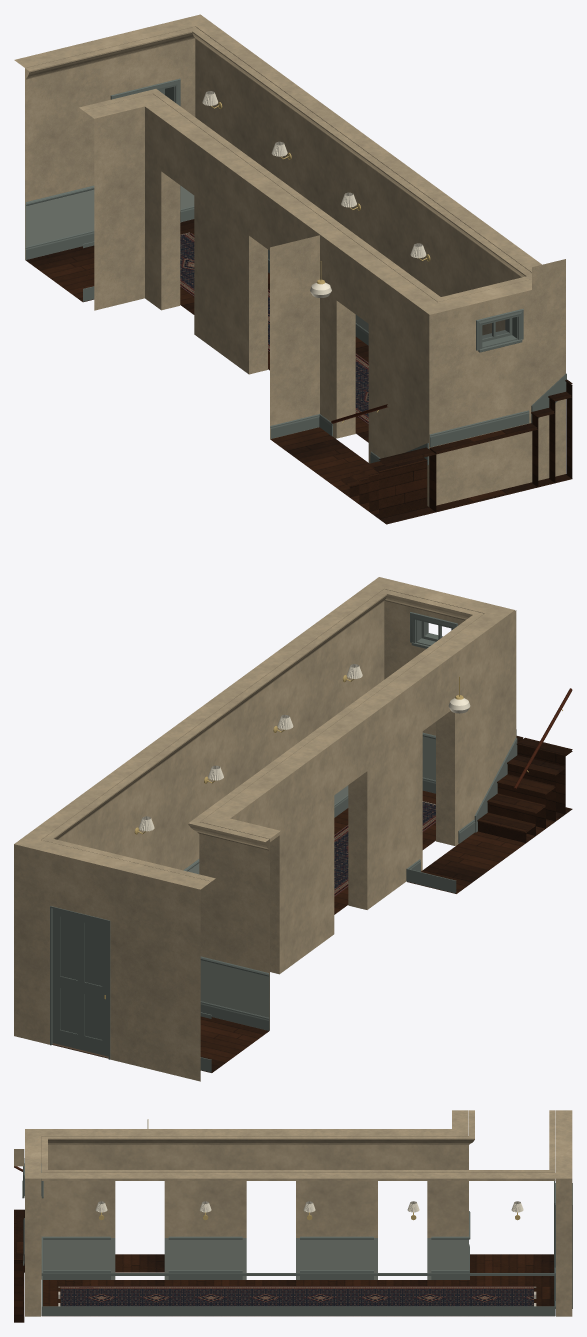
The model's file is corridor_window_review.glb.
3 renders of one model, top to bottom at view 1: azimuth 30°, elevation 25°; view 2: azimuth 150°, elevation 25°; view 3: azimuth 270°, elevation 25°, orthographic. The views are drawn at different scales.
Parts seen in each view (by area): view 1: 回廊·墙面、地面与线脚, room_3·墙面、地面, 回廊·墙体-col, room_3·楼梯踏步-col, 回廊·地毯（第一段）, 回廊·内窗（起点背墙）, room_3·第二跑上方墙面, 回廊·暗房门门套; view 2: 回廊·墙体-col, 回廊·墙面、地面与线脚, room_3·墙面、地面, darkroom_door-col, room_3·楼梯踏步-col, 回廊·地毯（第一段）, 回廊·暗房门门套, 回廊·内窗（起点背墙）, room_3·斜梁; view 3: 回廊·墙面、地面与线脚, 回廊·墙体-col, 回廊·地毯（第一段）, room_3·楼梯踏步-col, room_3·墙面、地面, 回廊·暗房门门套.
Part boxes in pixels (bbox=[...]): 回廊·墙面、地面与线脚: bbox=[25, 26, 531, 442]; room_3·墙面、地面: bbox=[270, 235, 571, 524]; 回廊·墙体-col: bbox=[14, 14, 541, 438]; room_3·楼梯踏步-col: bbox=[339, 379, 572, 518]; 回廊·地毯（第一段）: bbox=[180, 232, 368, 424]; 回廊·内窗（起点背墙）: bbox=[482, 316, 517, 347]; room_3·第二跑上方墙面: bbox=[532, 259, 565, 290]; 回廊·暗房门门套: bbox=[110, 78, 180, 222]; 回廊·墙体-col: bbox=[14, 577, 514, 1081]; 回廊·墙面、地面与线脚: bbox=[41, 589, 484, 1072]; room_3·墙面、地面: bbox=[406, 610, 572, 893]; darkroom_door-col: bbox=[52, 908, 108, 1056]; room_3·楼梯踏步-col: bbox=[477, 736, 572, 842]; 回廊·地毯（第一段）: bbox=[334, 801, 435, 896]; 回廊·暗房门门套: bbox=[50, 906, 110, 1059]; 回廊·内窗（起点背墙）: bbox=[410, 612, 457, 648]; room_3·斜梁: bbox=[474, 738, 517, 832]; 回廊·墙面、地面与线脚: bbox=[41, 1110, 555, 1316]; 回廊·墙体-col: bbox=[25, 1110, 572, 1316]; 回廊·地毯（第一段）: bbox=[58, 1286, 536, 1306]; room_3·楼梯踏步-col: bbox=[14, 1209, 24, 1322]; room_3·墙面、地面: bbox=[14, 1158, 164, 1322]; 回廊·暗房门门套: bbox=[554, 1181, 572, 1308].
Size of the model in its own units: 2.95 by 3.25 by 10.21.
Materials: 15 (4 with a texture image).
